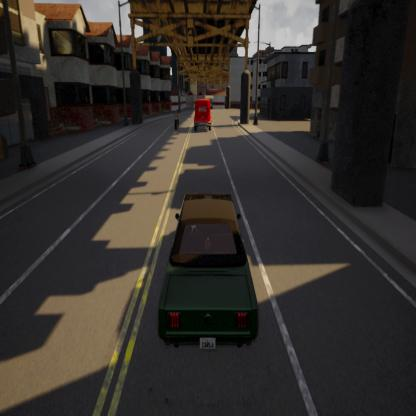Cars: (145, 189, 264, 356), (186, 93, 216, 134)
